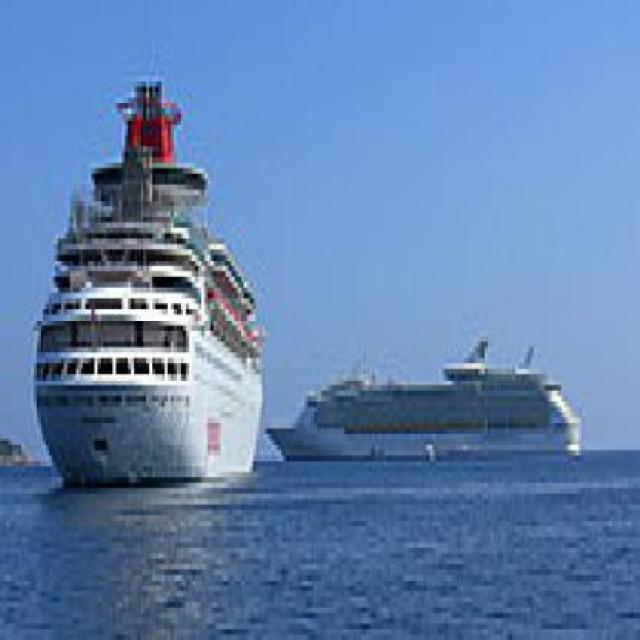cruise: (25, 61, 272, 506)
